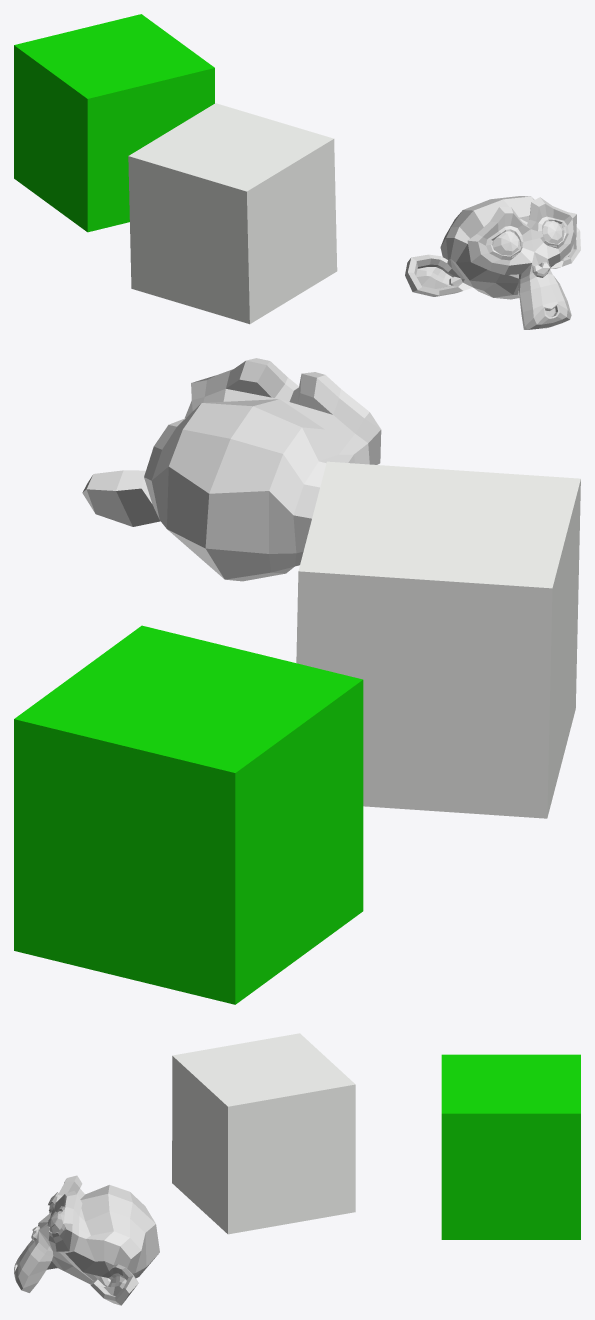
Rendered from test1_cubes3.glb.
3 views of the same model, one above another, from view 1: azimuth 30°, elevation 25°; view 2: azimuth 150°, elevation 25°; view 3: azimuth 270°, elevation 25° (orthographic). The views are drawn at different scales.
Parts seen in each view (by area): view 1: CubeL, CubeR, Suzanne; view 2: CubeR, CubeL, Suzanne; view 3: CubeL, CubeR, Suzanne.
Boxes of the visible parts, box(x1,y1,x2,y2) form: CubeL: box(128, 103, 337, 324); CubeR: box(14, 14, 214, 232); Suzanne: box(405, 196, 580, 329); CubeR: box(14, 625, 363, 1004); CubeL: box(296, 461, 580, 818); Suzanne: box(82, 358, 381, 581); CubeL: box(172, 1033, 355, 1234); CubeR: box(441, 1054, 580, 1239); Suzanne: box(14, 1175, 159, 1305).
Size of what is drawn, in the model's own units: 5.66 by 2.15 by 8.14.
